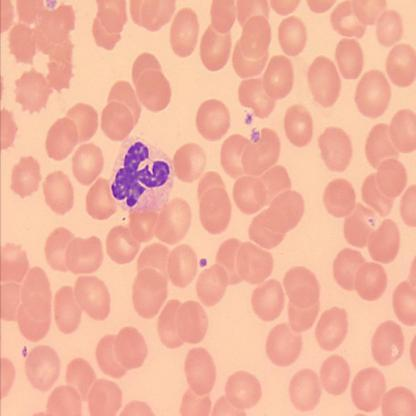Segmented neutrophil: (108, 136, 176, 214)
